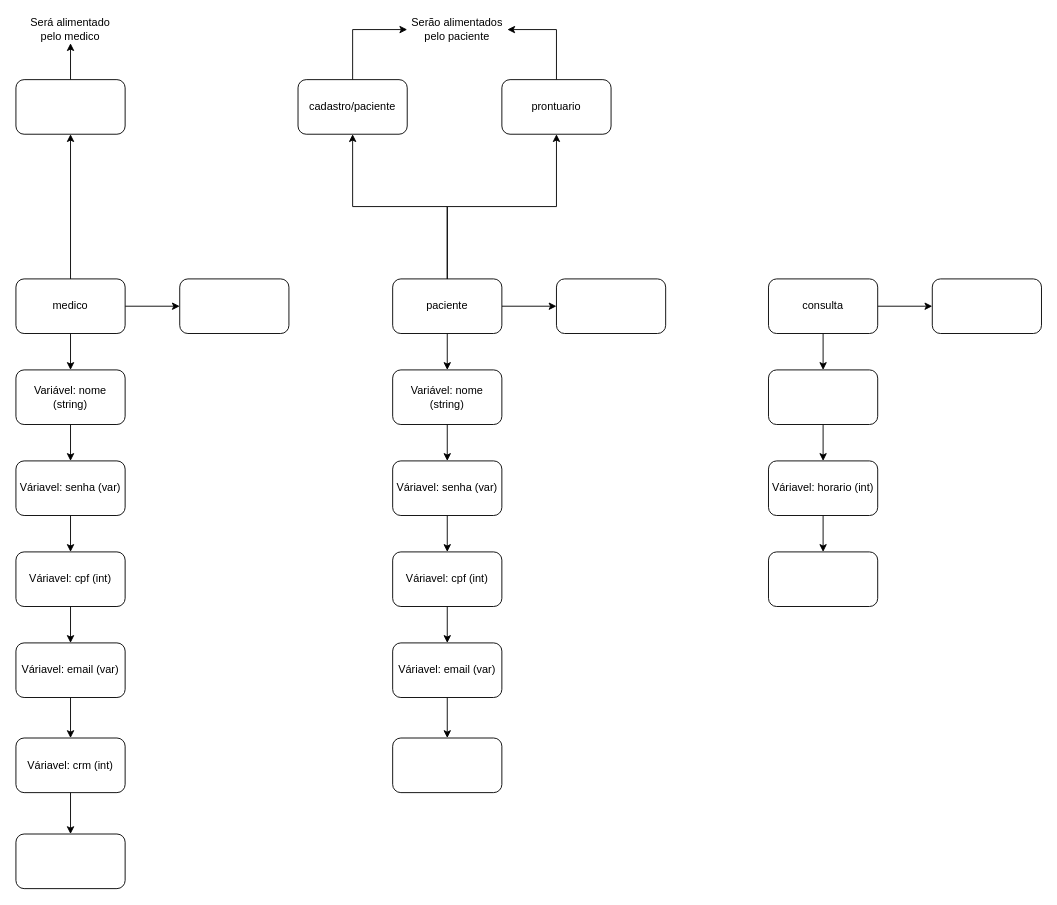
This 1057x905 diagram has some shape labels left out. Each missing label, with the box of its shape:
cadastro/medico: (15, 79, 125, 134)
Variável: consulta (var): (931, 278, 1041, 334)
Variável: data (var): (768, 369, 878, 425)
Variável: medico (var): (179, 278, 289, 334)
Variável: paciente (var): (556, 278, 666, 334)
Váriavel: especialidade (var): (15, 833, 125, 889)
Váriavel: informacoes/medicas (string): (392, 737, 502, 793)
Váriavel: local (var): (768, 551, 878, 607)
